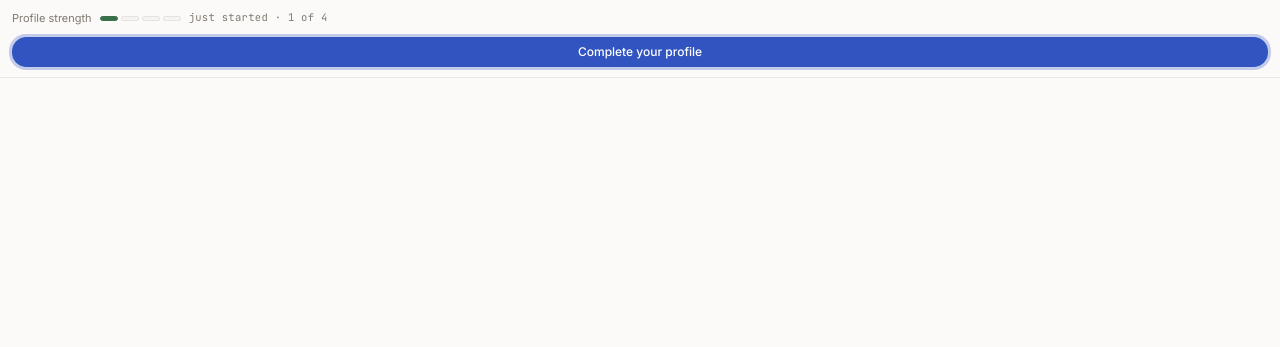
Test: EnrichmentJourney — follow-up extends a list answer (F2) › renders the follow-up as a free-text ask seeded with the prior answer, and submits the union
Later steps or results of the test are not shown.
Click the button "Complete your profile" at (640, 52), box [12,36,1268,66]
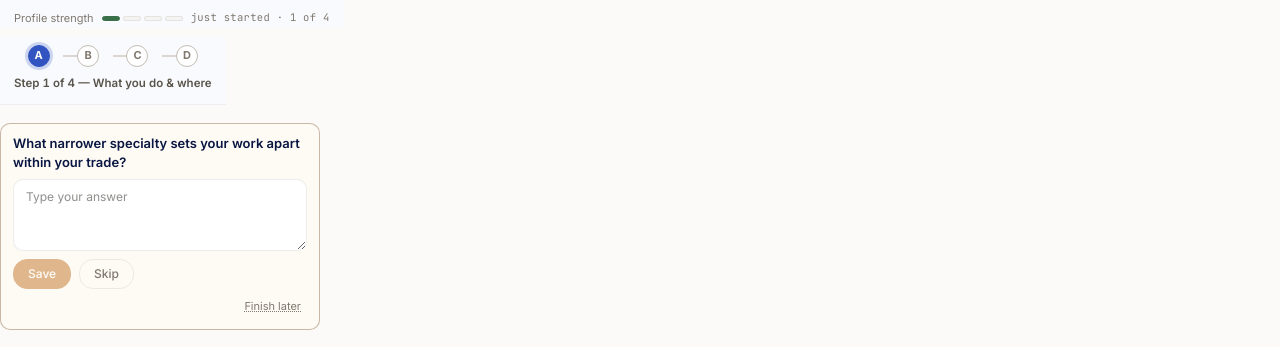
Check: the text box named "Your specialization" is shown
Type "HVAC" into the text box named "Your specialization" at (160, 215), box [13,179,307,251]
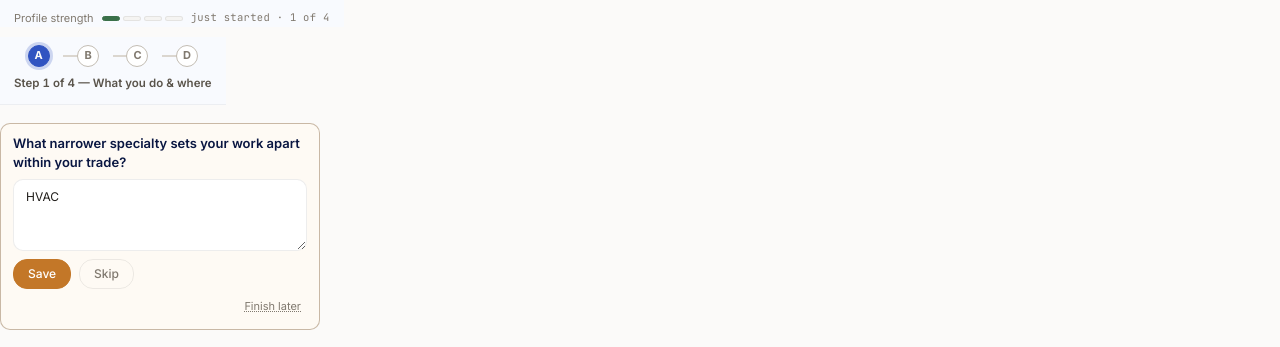
Click the button "Save" at (42, 274), box [13,259,71,289]
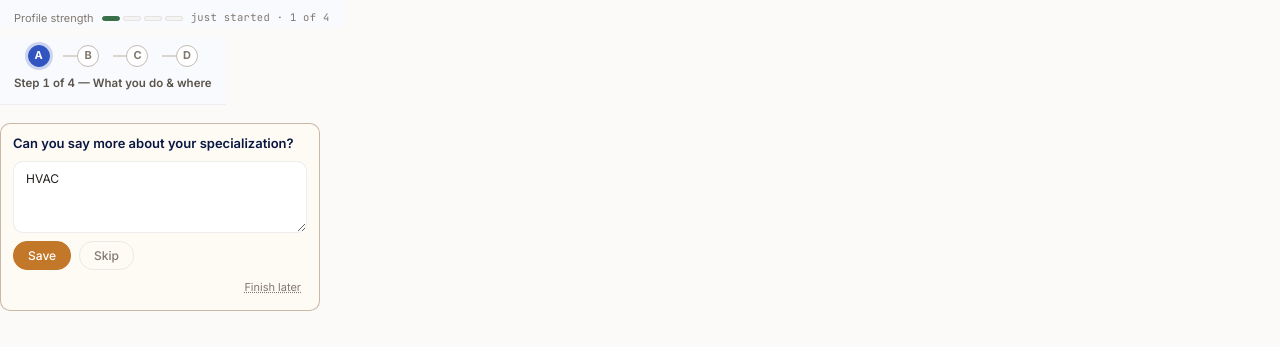
Check: the text box named "Your specialization" holds "HVAC", box [13,161,307,233]
Check: the text "Can you say more about your specialization?" is shown, box [13,134,307,153]
